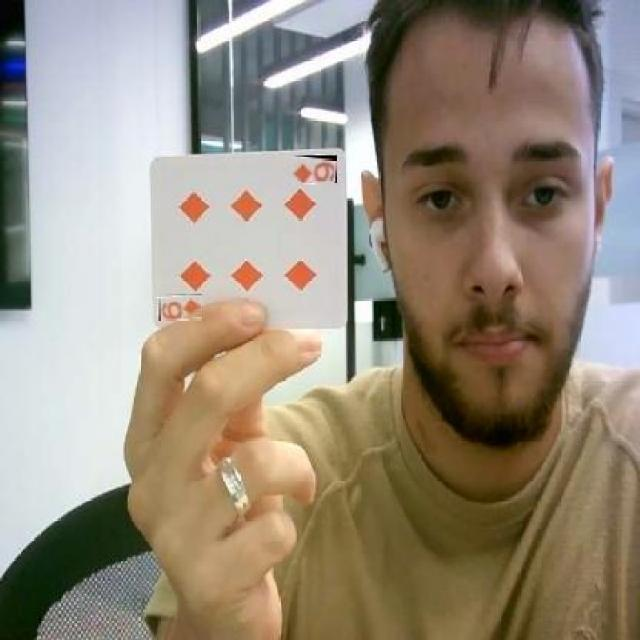6D: (292, 155, 337, 183), (158, 294, 202, 320)
